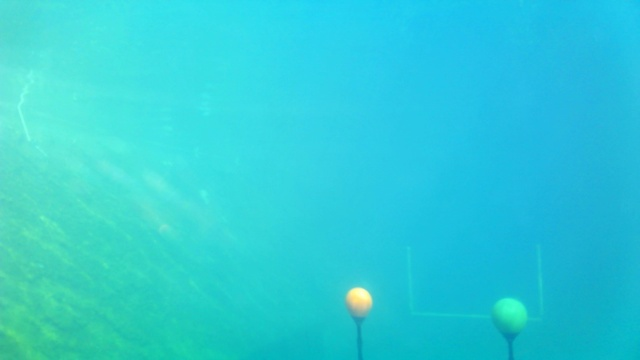buoy_green: (490, 297, 529, 339)
buoy_red: (344, 287, 376, 324)
